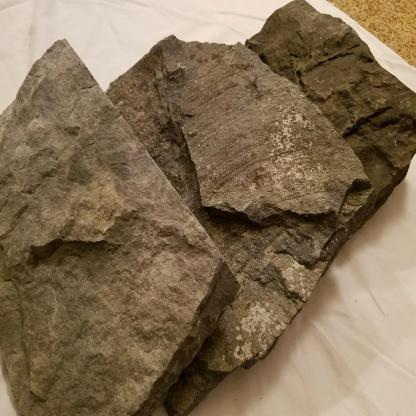Igneous_Basalt: (1, 21, 227, 416), (155, 20, 367, 377)
